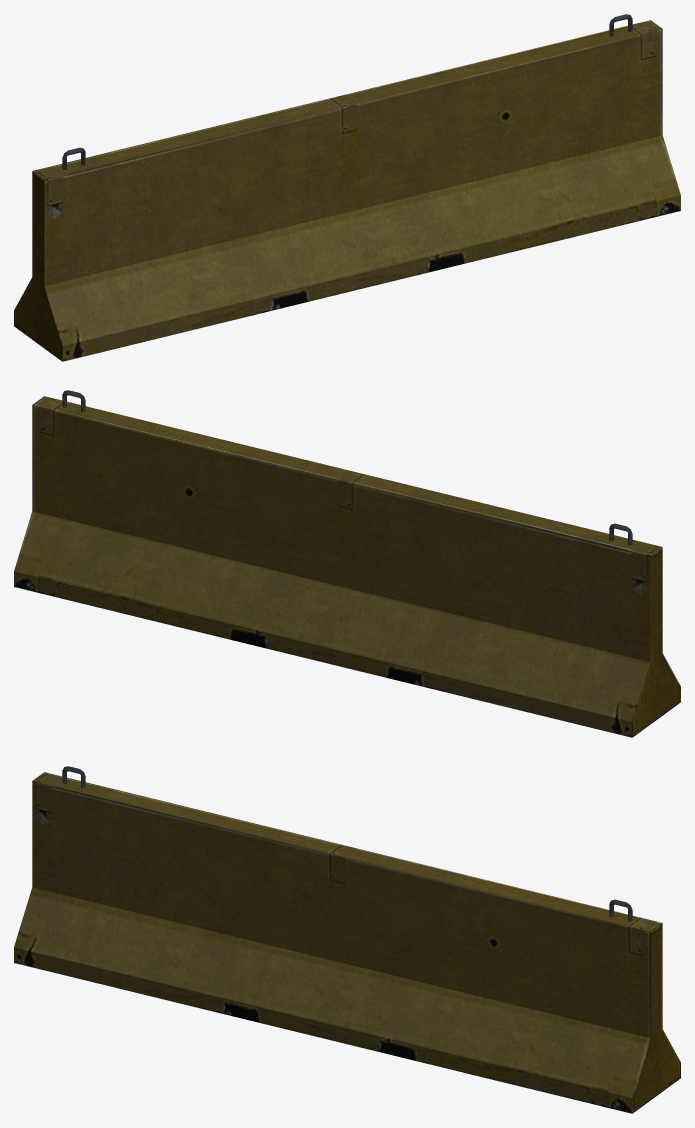
File: barricade_a_1.obj
3 renders of one model, top to bottom at view 1: azimuth 30°, elevation 25°; view 2: azimuth 150°, elevation 25°; view 3: azimuth 330°, elevation 25°, orthographic.
Parts seen in each view (by area): view 1: barricade_a_1; view 2: barricade_a_1; view 3: barricade_a_1.
Boxes of the visible parts, x1,y1,x2,y2 form: barricade_a_1: [14, 14, 680, 361]; barricade_a_1: [14, 390, 680, 737]; barricade_a_1: [14, 766, 680, 1113].
Size of the model in its own units: 2.94 by 0.8466 by 0.4.
